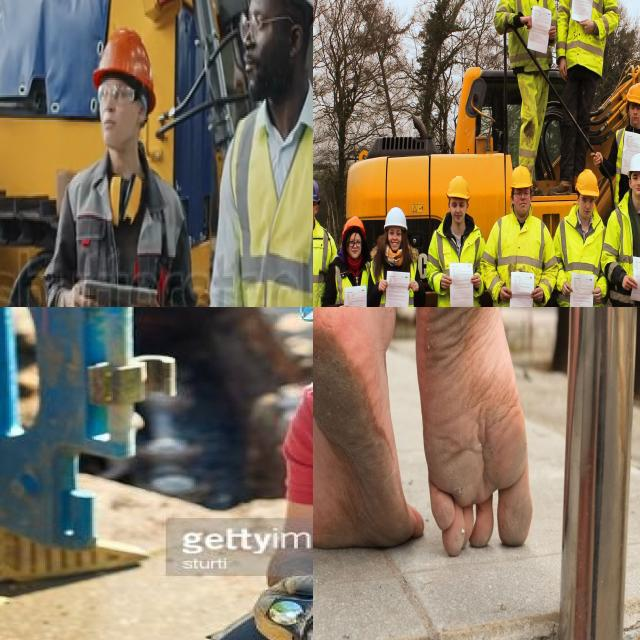Barefoots: (415, 307, 533, 556), (313, 307, 424, 548)
Ear-protection: (107, 171, 140, 226)
face_nomask: (446, 198, 473, 226), (510, 189, 532, 220), (574, 194, 598, 214), (383, 229, 407, 249), (346, 234, 364, 257), (626, 169, 640, 197)
glasses: (93, 79, 142, 114), (237, 11, 295, 40), (347, 239, 362, 250), (515, 190, 531, 200)
hand_noglove: (582, 14, 598, 49), (467, 272, 484, 299), (437, 269, 453, 295), (496, 281, 512, 307), (517, 10, 533, 36), (616, 276, 640, 292), (560, 276, 576, 300), (533, 281, 545, 307), (406, 278, 420, 300), (589, 286, 604, 305), (376, 278, 389, 298), (334, 300, 350, 307)
head_helmet: (91, 30, 160, 94), (242, 0, 313, 32), (574, 169, 599, 197), (383, 206, 408, 232), (342, 216, 367, 241), (446, 175, 470, 200), (510, 164, 533, 190), (624, 82, 640, 107), (626, 152, 640, 180), (313, 177, 320, 204)
person: (45, 28, 199, 307), (194, 0, 313, 307), (232, 307, 313, 640), (550, 0, 617, 195), (496, 0, 556, 179), (484, 163, 553, 307), (426, 176, 487, 307), (552, 168, 605, 307), (373, 206, 435, 307), (604, 156, 640, 307), (328, 215, 376, 307), (618, 84, 640, 170)
vest: (222, 97, 313, 307), (484, 211, 552, 307), (557, 204, 605, 304), (429, 227, 487, 307), (606, 198, 640, 304), (561, 0, 610, 73), (504, 0, 553, 71), (372, 251, 423, 307), (327, 263, 372, 307), (313, 219, 332, 307), (612, 127, 640, 177)
